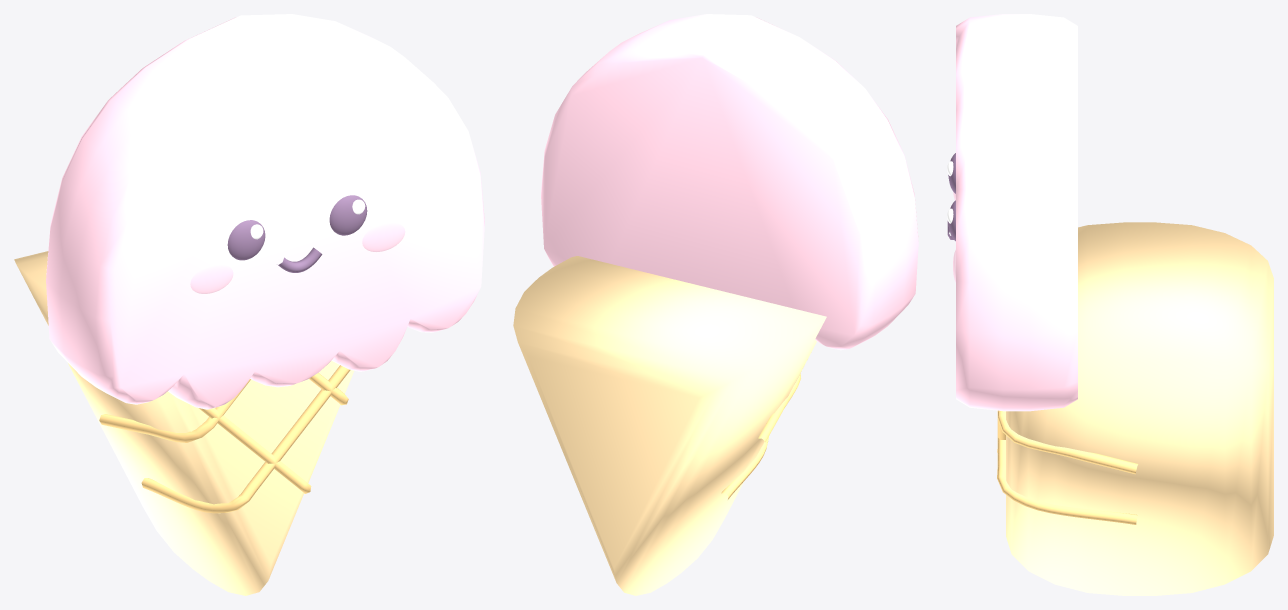
File: squishy_icecream.glb
The picture shows the model from 3 angles, left to right: view 1: azimuth 30°, elevation 25°; view 2: azimuth 150°, elevation 25°; view 3: azimuth 270°, elevation 25°; orthographic projection. The views are drawn at different scales.
Visible parts, largest first — view 1: icecream; view 2: icecream; view 3: icecream.
Boxes of the visible parts, x1,y1,x2,y2 form: icecream: [14, 14, 484, 595]; icecream: [513, 14, 918, 595]; icecream: [947, 14, 1273, 595].
Size of the model in its own units: 0.6995 by 1 by 0.5239.
